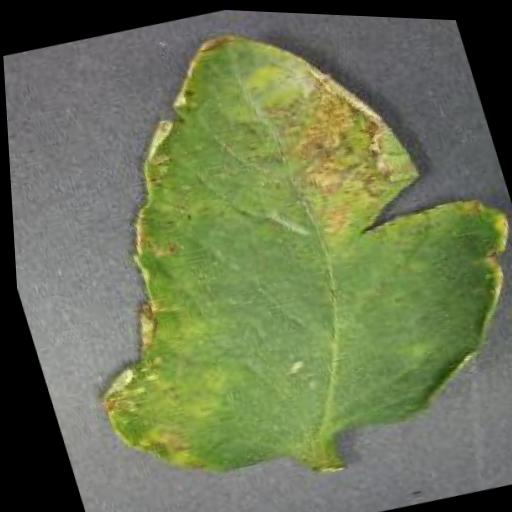Bacterial Spot: (0, 0, 512, 509)
